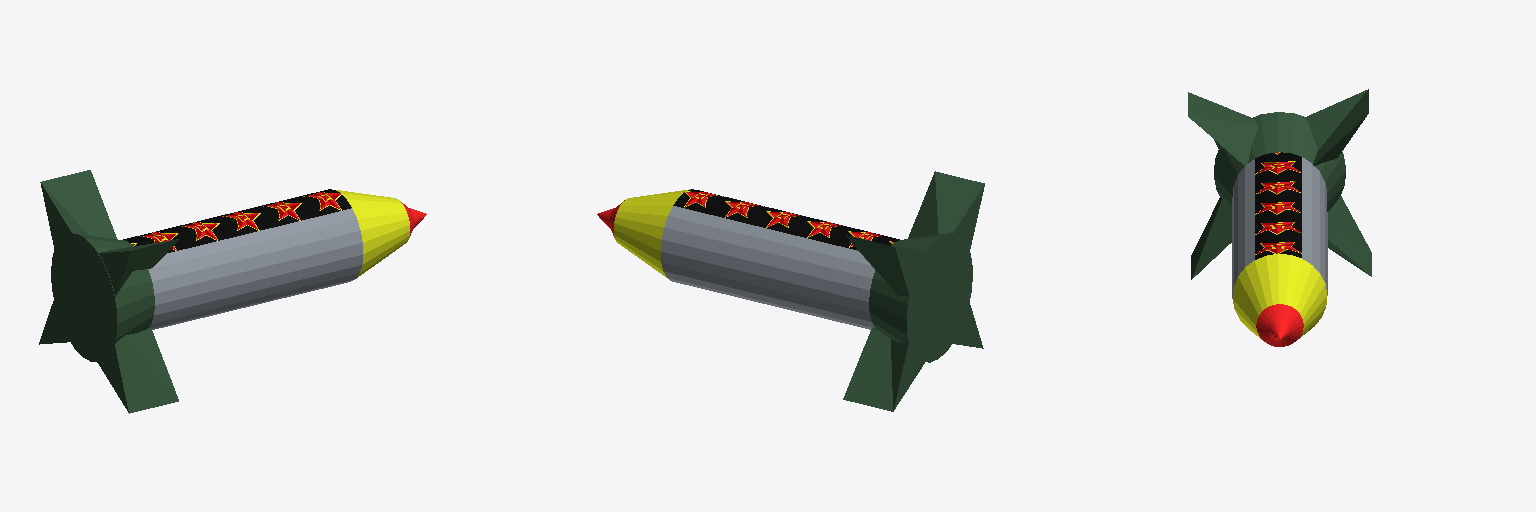
The picture shows the model from 3 angles: view 1: azimuth 30°, elevation 25°; view 2: azimuth 150°, elevation 25°; view 3: azimuth 270°, elevation 25°; orthographic projection.
Parts seen in each view (by area): view 1: Cone01, Box01; view 2: Cone01, Box01; view 3: Cone01, Box01.
Part boxes in pixels (bbox=[...]): Cone01: bbox=[51, 189, 426, 362]; Box01: bbox=[39, 170, 179, 413]; Cone01: bbox=[597, 189, 972, 362]; Box01: bbox=[843, 171, 984, 411]; Cone01: bbox=[1214, 112, 1345, 346]; Box01: bbox=[1188, 89, 1371, 279].
Size of the model in its own units: 33.36 by 15.47 by 15.47.
Materials: 6 (1 with a texture image).